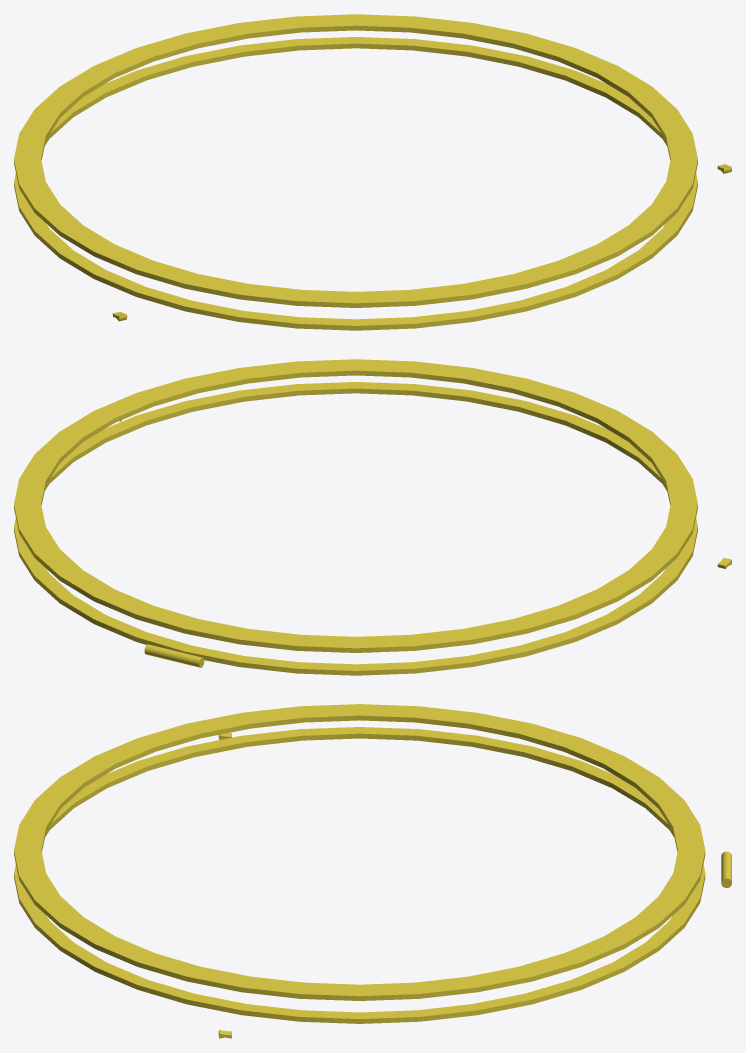
The picture shows the model from 3 angles, top to bottom: view 1: azimuth 30°, elevation 25°; view 2: azimuth 150°, elevation 25°; view 3: azimuth 270°, elevation 25°; orthographic projection.
Visible parts, largest first — view 1: id2, id5, id8; view 2: id2, id5, id8, id14; view 3: id2, id5, id8.
Part boxes in pixels (left/top/right/bottom): id2: left=14, top=14, right=697, bottom=307; id5: left=14, top=37, right=697, bottom=330; id8: left=30, top=21, right=681, bottom=296; id2: left=14, top=359, right=697, bottom=652; id5: left=14, top=382, right=697, bottom=675; id8: left=30, top=366, right=681, bottom=641; id14: left=144, top=644, right=204, bottom=667; id2: left=14, top=704, right=705, bottom=1000; id5: left=14, top=727, right=705, bottom=1023; id8: left=30, top=710, right=689, bottom=989.
Size of the model in its own units: 0.8538 by 0.0496 by 0.8573.
